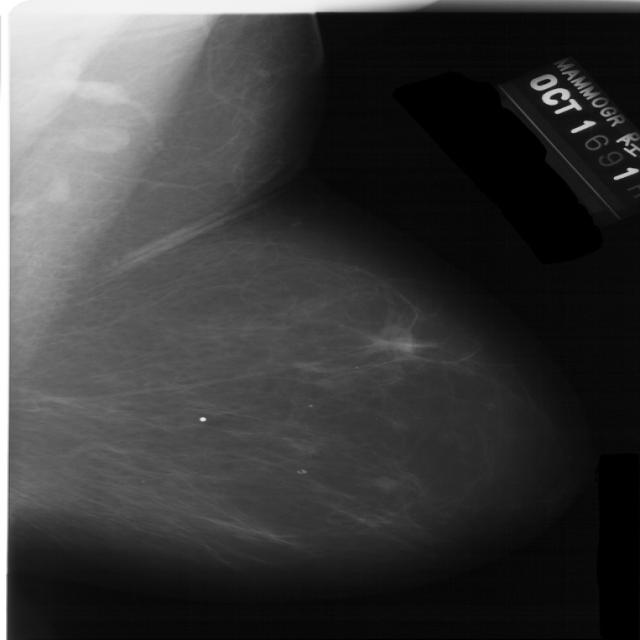tumour: (365, 474, 399, 488)
